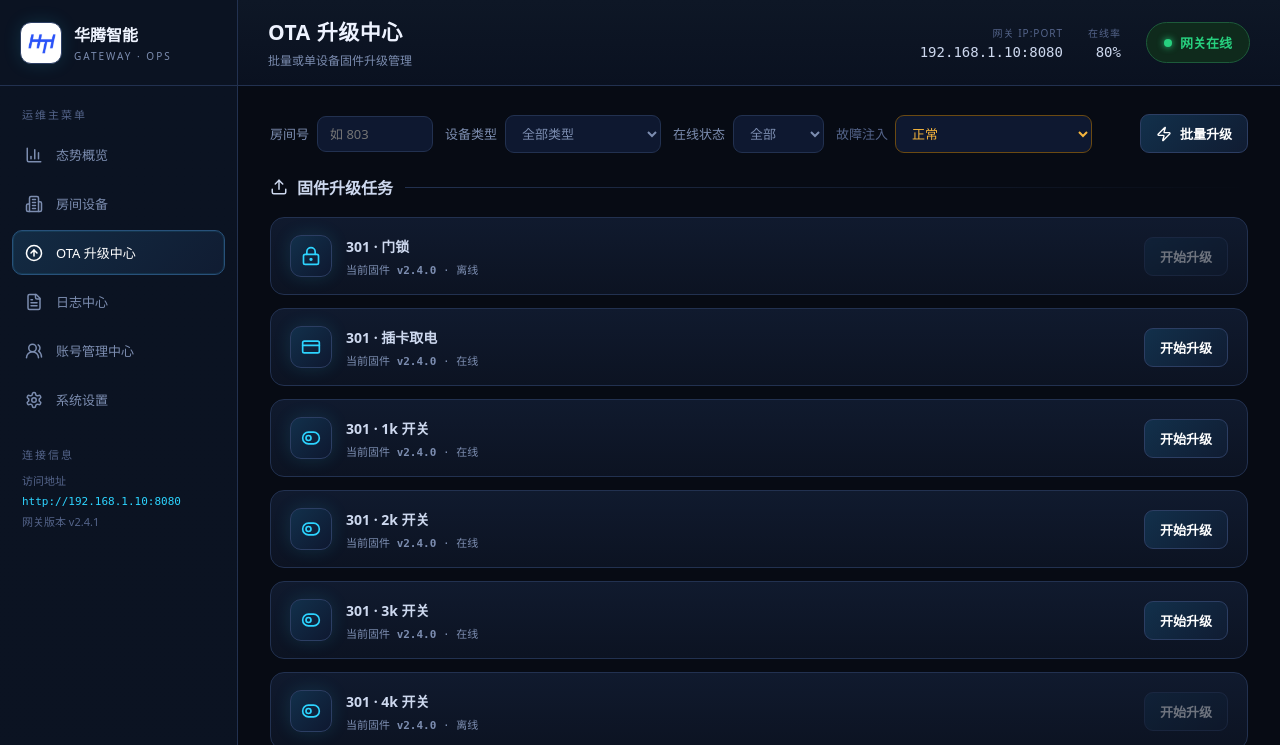
it: App › enters batch mode and locks the device type of the batch
Click the button "批量升级" at (1194, 134), box [1140,114,1248,153]
(page scrolled)
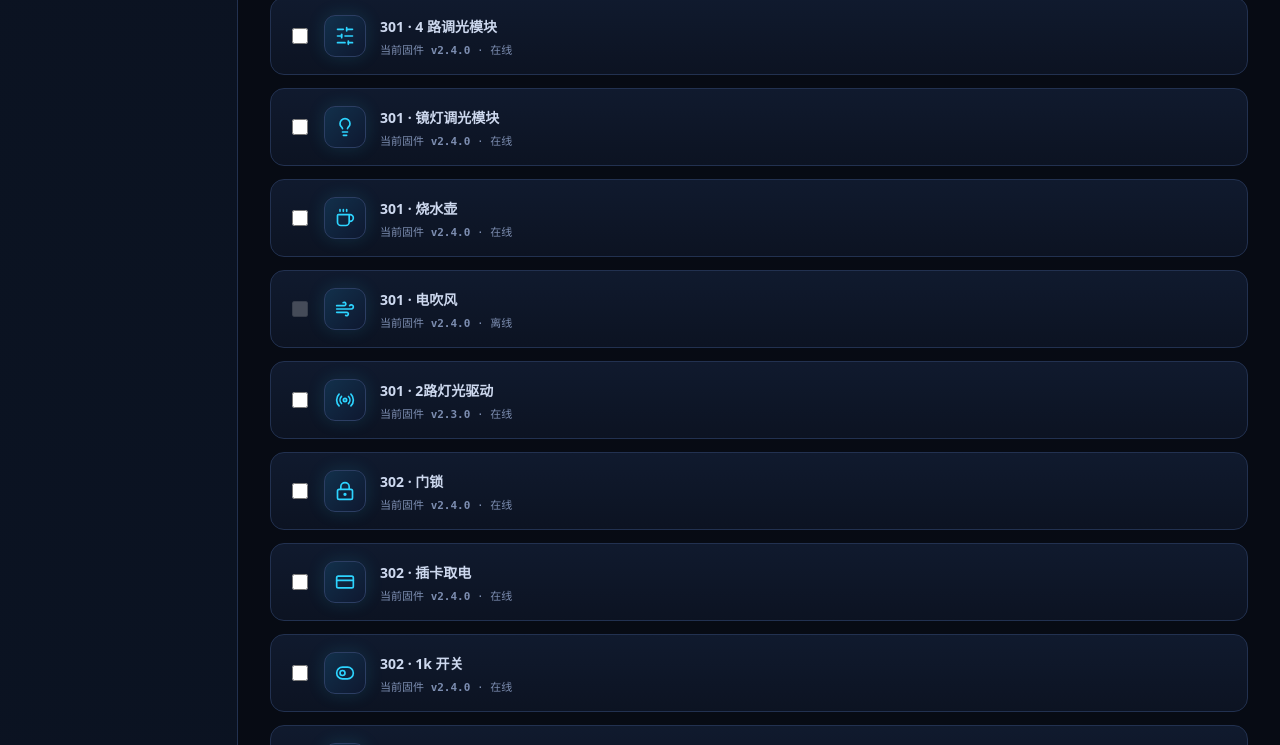
// 勾第一台灯具 → 本批次锁定「智能灯具」。
Click the checkbox next to "301 · 2路灯光驱动" at (300, 400), box [292,392,308,408]
(page scrolled)
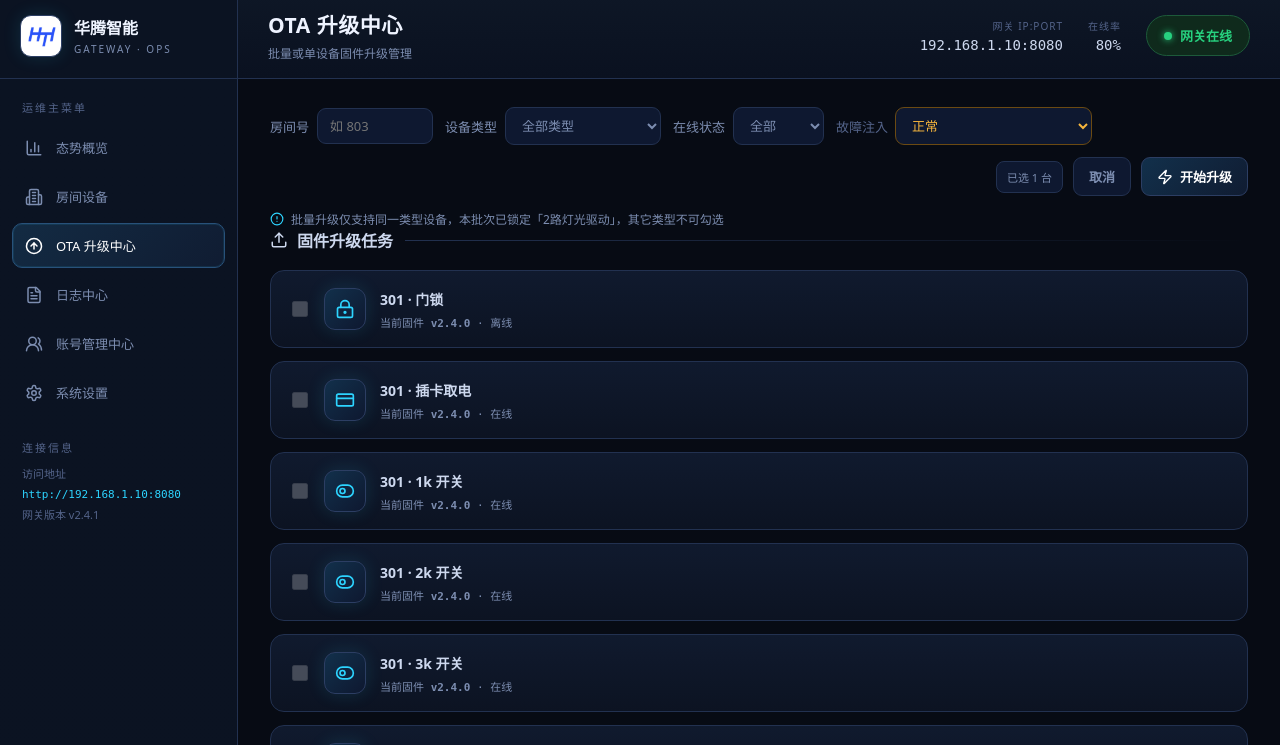
Result: the text with class "count-tag" reads "已选 1 台" at [1007,170,1052,184]
Result: the element with class "batch-hint" shows "本批次已锁定「2路灯光驱动」" at [291,211,724,228]
Result: the checkbox next to "301 · 插卡取电" is disabled
Click the checkbox next to "301 · 插卡取电" at (300, 400), box [292,392,308,408]
(page scrolled)
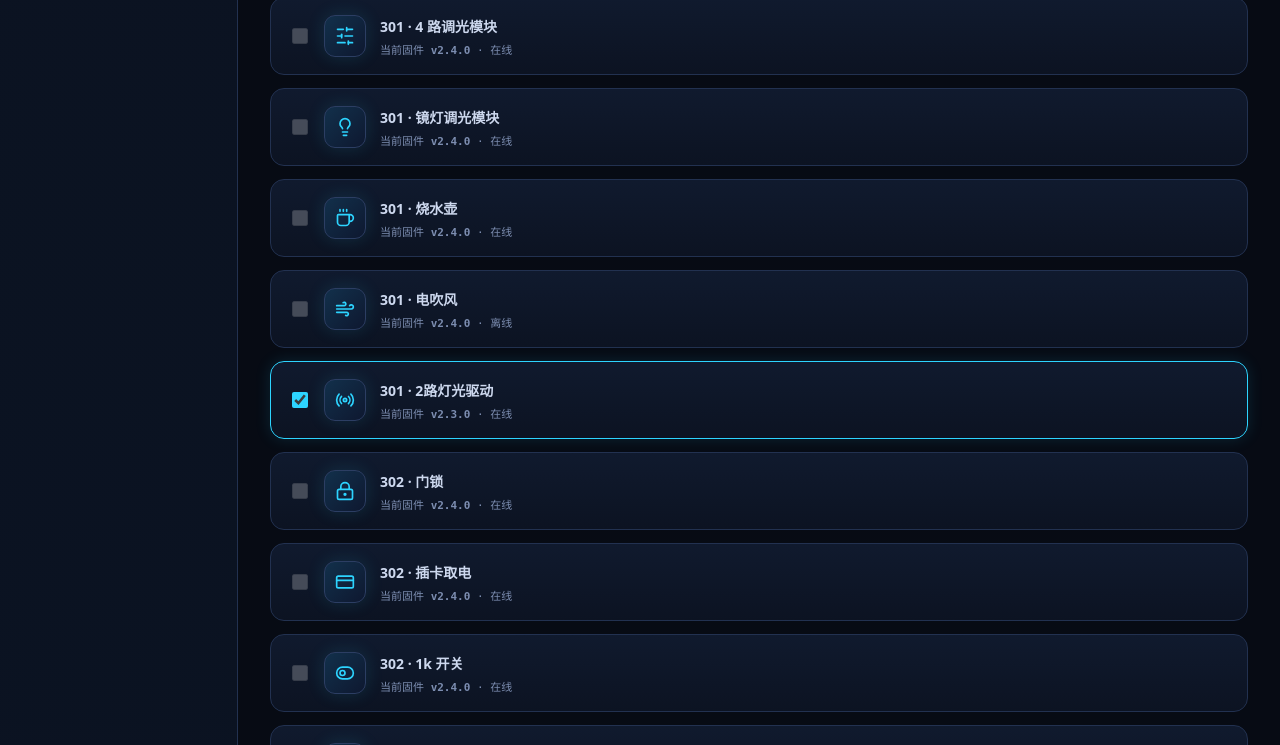
// 取消唯一一台设备的勾选后，类型锁随之解除。
Click the checkbox next to "301 · 2路灯光驱动" at (300, 400), box [292,392,308,408]
(page scrolled)
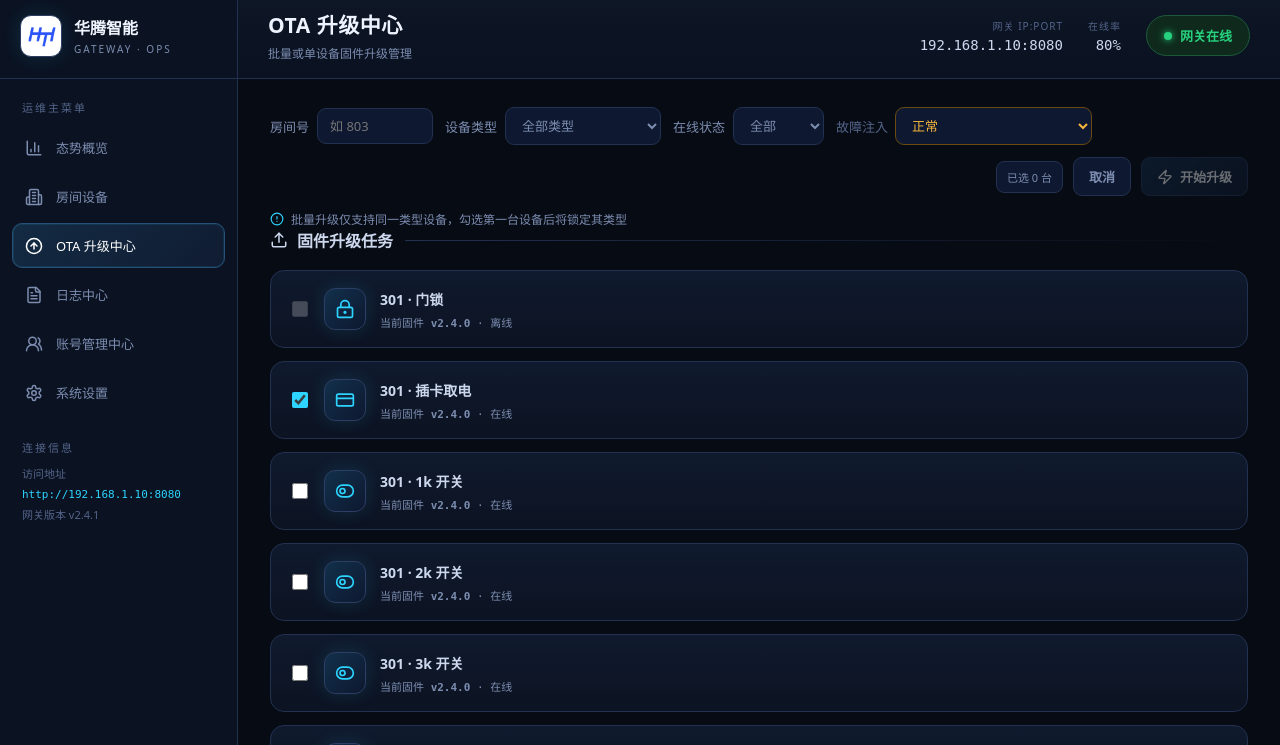
Result: the text with class "count-tag" reads "已选 0 台" at [1007,170,1052,184]
Result: the element with class "batch-hint" shows "勾选第一台设备后将锁定其类型" at [291,211,627,228]
